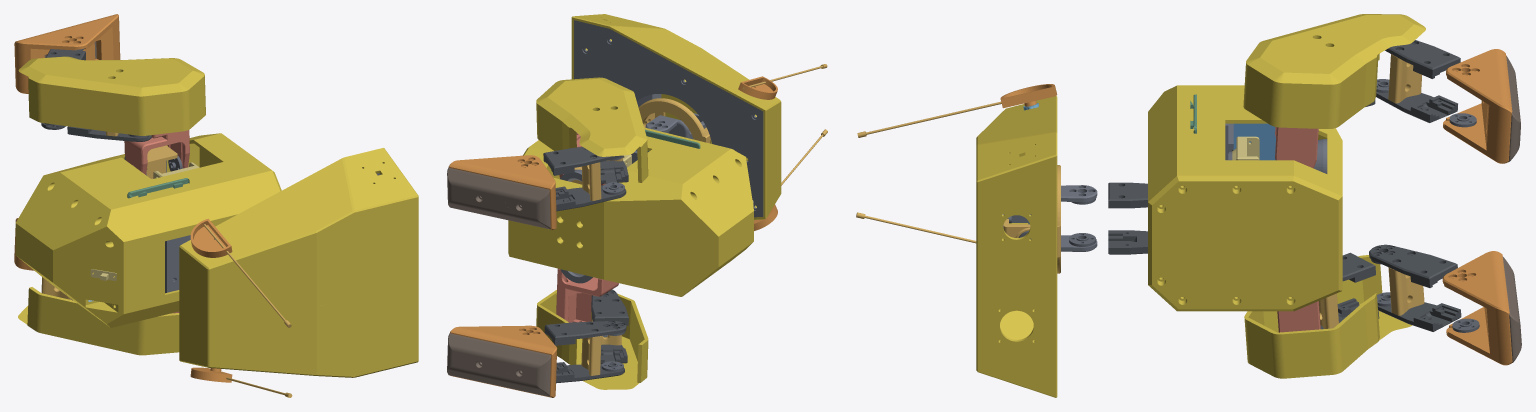
The model's file is atech_duck_stand.glb.
The picture shows the model from 3 angles, left to right: view 1: azimuth 30°, elevation 25°; view 2: azimuth 150°, elevation 25°; view 3: azimuth 270°, elevation 25°; orthographic projection. The views are drawn at different scales.
Visible parts, largest first — view 1: head_1, left_cache_1, body_middle_top_1, body_back_1, right_cache_1, foot_top_1, body_middle_bottom_1, left_roll_to_pitch_1, left_antenna_holder_1, body_front_1, trunk_top_1, roll_motor_bottom_1 (+4 smaller); view 2: body_middle_bottom_1, head_bot_sheet_1, body_back_1, left_cache_1, head_1, foot_bottom_tpu_2, foot_bottom_tpu_1, right_cache_1, foot_top_1, foot_top_2, right_roll_to_pitch_1, left_knee_to_ankle_left_sheet_4 (+15 smaller); view 3: body_front_1, head_1, left_cache_1, right_cache_1, body_middle_top_1, foot_top_1, foot_top_2, body_middle_bottom_1, left_knee_to_ankle_left_sheet_4, left_knee_to_ankle_left_sheet_2, left_roll_to_pitch_1, foot_side_1 (+17 smaller).
Boxes of the visible parts, bbox=[...] form: head_1: bbox=[179, 148, 418, 377]; left_cache_1: bbox=[18, 56, 205, 135]; body_middle_top_1: bbox=[90, 157, 273, 327]; body_back_1: bbox=[15, 172, 123, 327]; right_cache_1: bbox=[18, 287, 179, 355]; foot_top_1: bbox=[14, 14, 119, 81]; body_middle_bottom_1: bbox=[50, 135, 243, 194]; left_roll_to_pitch_1: bbox=[124, 130, 189, 174]; left_antenna_holder_1: bbox=[190, 218, 232, 257]; body_front_1: bbox=[195, 133, 281, 194]; trunk_top_1: bbox=[165, 235, 190, 293]; roll_motor_bottom_1: bbox=[146, 145, 177, 179]; body_middle_bottom_1: bbox=[516, 143, 710, 295]; head_bot_sheet_1: bbox=[574, 20, 763, 217]; body_back_1: bbox=[673, 149, 753, 296]; left_cache_1: bbox=[536, 77, 648, 182]; head_1: bbox=[571, 14, 781, 219]; foot_bottom_tpu_2: bbox=[447, 333, 550, 396]; foot_bottom_tpu_1: bbox=[447, 167, 550, 229]; right_cache_1: bbox=[536, 290, 648, 389]; foot_top_1: bbox=[448, 155, 556, 220]; foot_top_2: bbox=[450, 325, 557, 387]; right_roll_to_pitch_1: bbox=[556, 268, 618, 322]; left_knee_to_ankle_left_sheet_4: bbox=[544, 321, 626, 345]; body_front_1: bbox=[1148, 171, 1342, 311]; head_1: bbox=[976, 96, 1057, 397]; left_cache_1: bbox=[1243, 14, 1425, 128]; right_cache_1: bbox=[1244, 255, 1411, 378]; body_middle_top_1: bbox=[1148, 85, 1225, 297]; foot_top_1: bbox=[1446, 49, 1512, 150]; foot_top_2: bbox=[1442, 251, 1511, 351]; body_middle_bottom_1: bbox=[1225, 85, 1342, 297]; left_knee_to_ankle_left_sheet_4: bbox=[1369, 244, 1457, 287]; left_knee_to_ankle_left_sheet_2: bbox=[1385, 40, 1460, 78]; left_roll_to_pitch_1: bbox=[1275, 127, 1318, 168]; foot_side_1: bbox=[1443, 100, 1509, 163].
Bounding box in the file's own units: 0.255 × 0.2493 × 0.4891.
